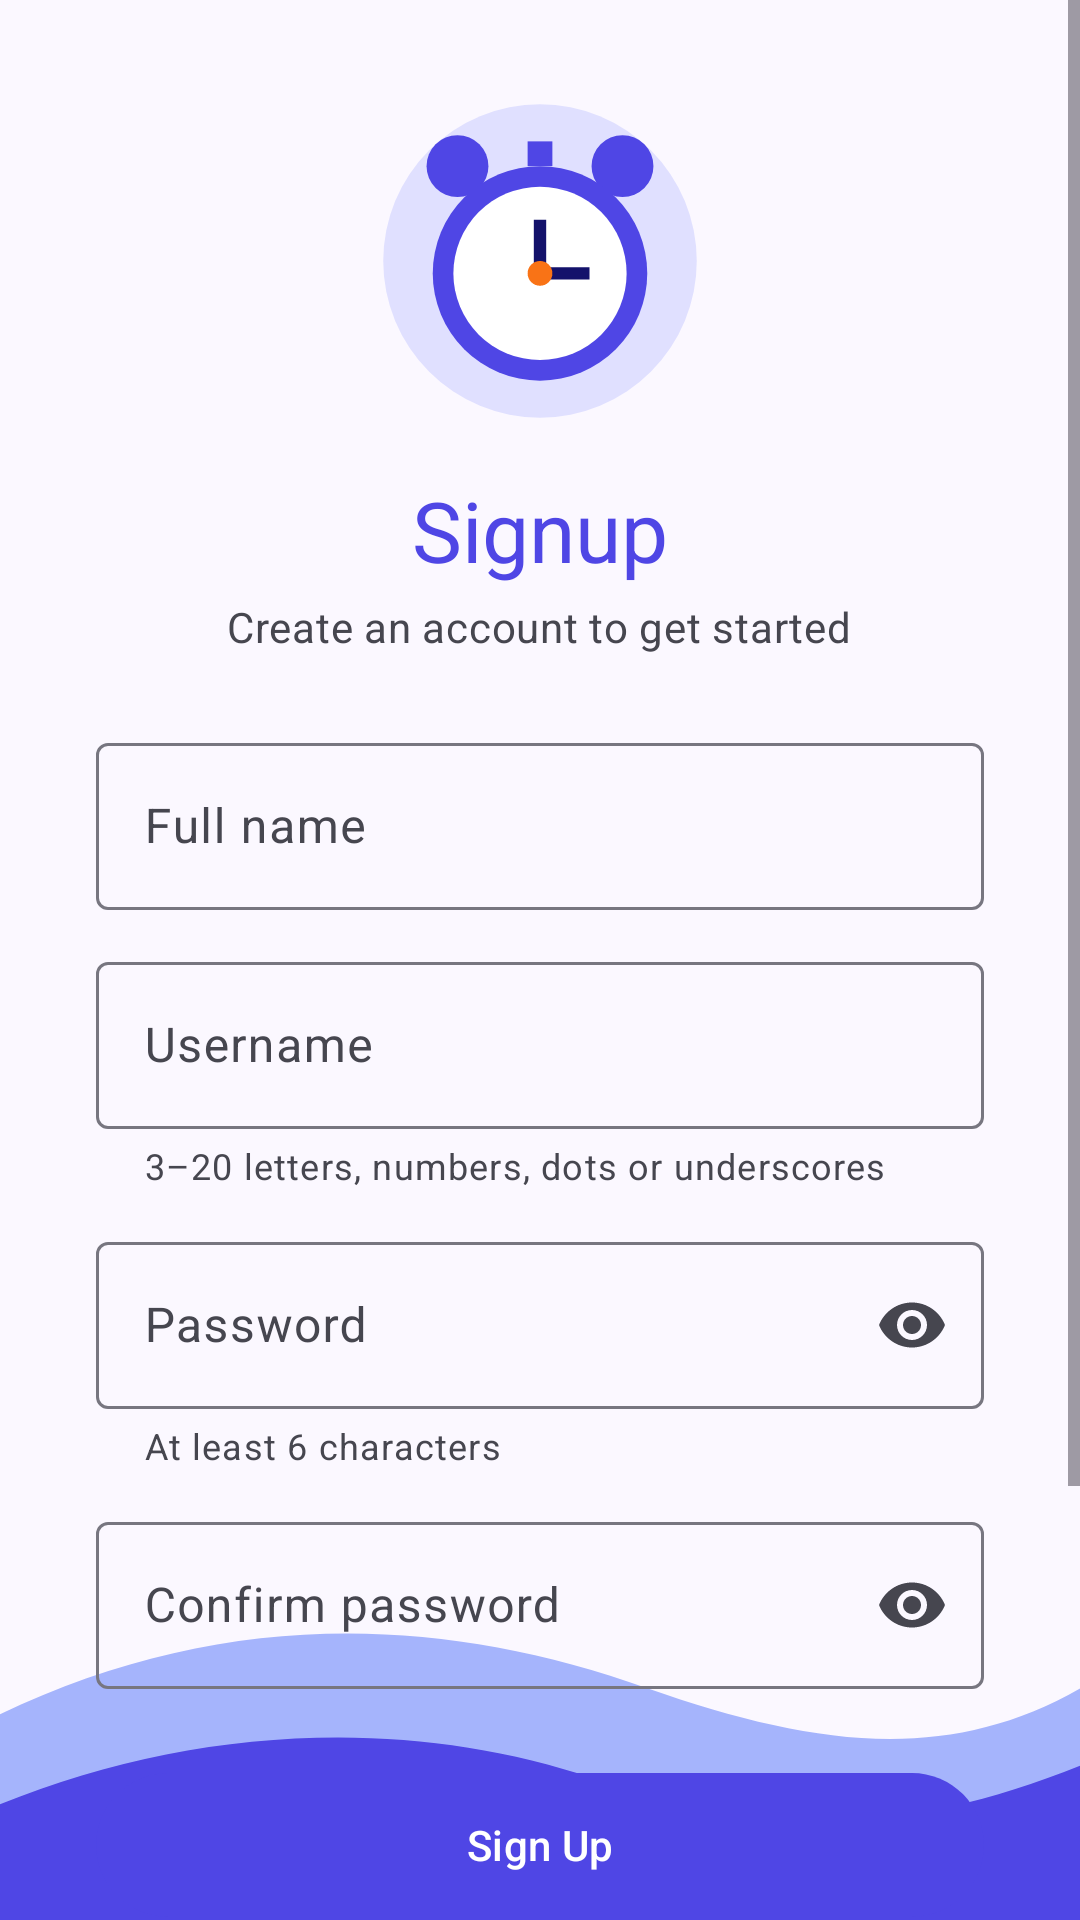

Point at icon controls on the screen. Image size 1080*1920, points as (x=x, y=y).
illustration clock: (x=540, y=261)
